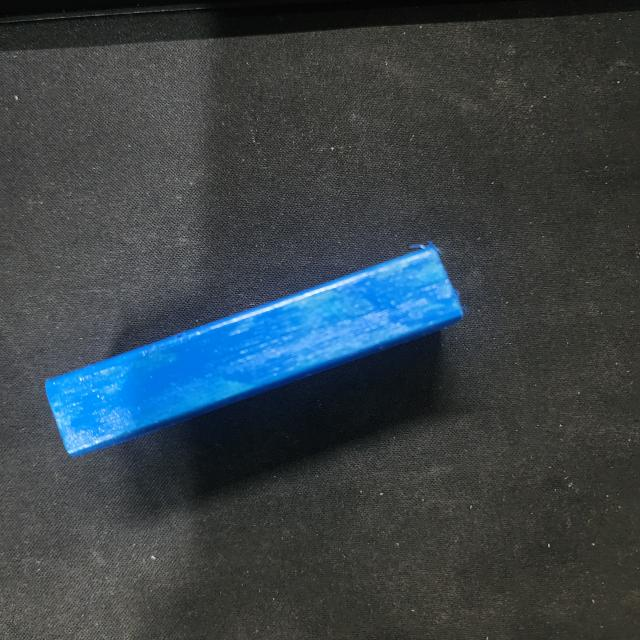blue: (44, 244, 467, 458)
